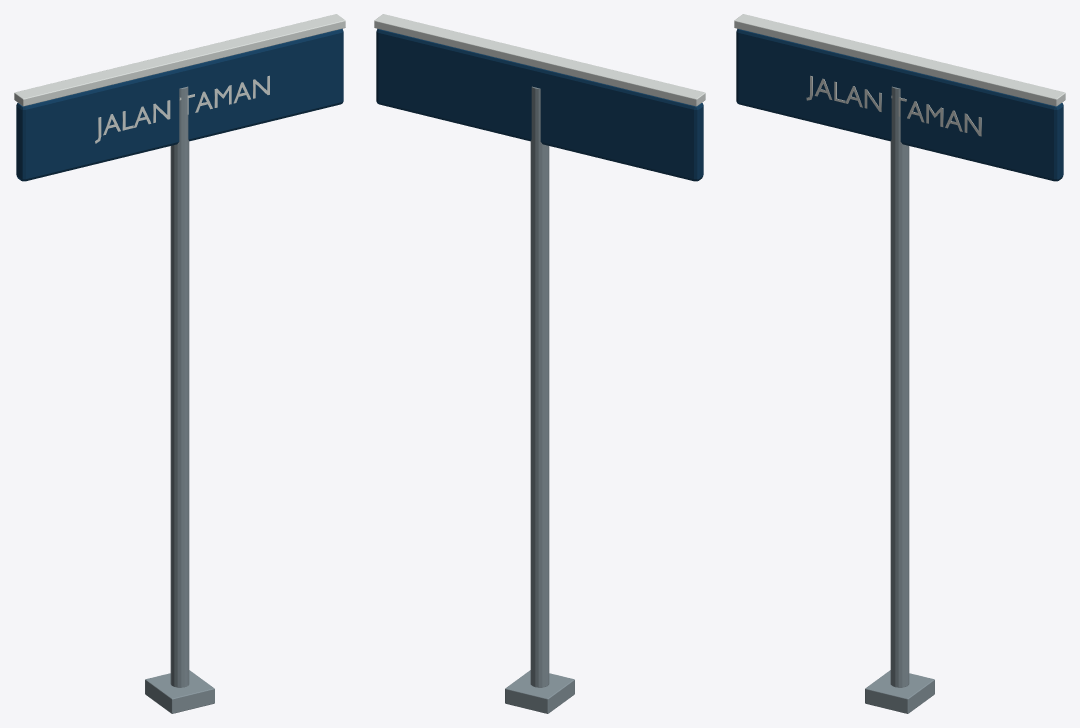
The model's file is edited.glb.
3 views of the same model, side by side, from view 1: azimuth 30°, elevation 25°; view 2: azimuth 150°, elevation 25°; view 3: azimuth 330°, elevation 25° (orthographic).
Visible parts, largest first — view 1: SIGN_Panel, POST, SIGN_Edge, BASE, LETTER_Street; view 2: SIGN_Panel, POST, SIGN_Edge, BASE; view 3: SIGN_Panel, POST, SIGN_Edge, BASE, LETTER_Street.
Boxes of the visible parts, <box> form: SIGN_Panel: <box>16,28,343,181</box>; POST: <box>170,86,189,687</box>; SIGN_Edge: <box>14,14,345,106</box>; BASE: <box>145,670,214,713</box>; LETTER_Street: <box>95,75,269,143</box>; SIGN_Panel: <box>376,28,703,181</box>; POST: <box>530,86,549,687</box>; SIGN_Edge: <box>374,14,705,106</box>; BASE: <box>505,670,574,713</box>; SIGN_Panel: <box>736,28,1063,181</box>; POST: <box>890,86,909,687</box>; SIGN_Edge: <box>734,14,1065,106</box>; BASE: <box>865,670,934,713</box>; LETTER_Street: <box>806,75,981,136</box>.
Size of the model in its own units: 1.1 by 2.09 by 0.16.
